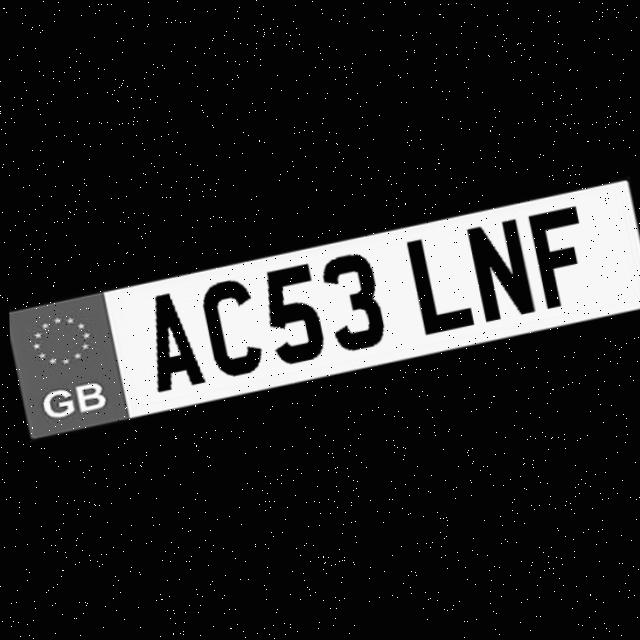license-plates: (9, 178, 640, 438)
